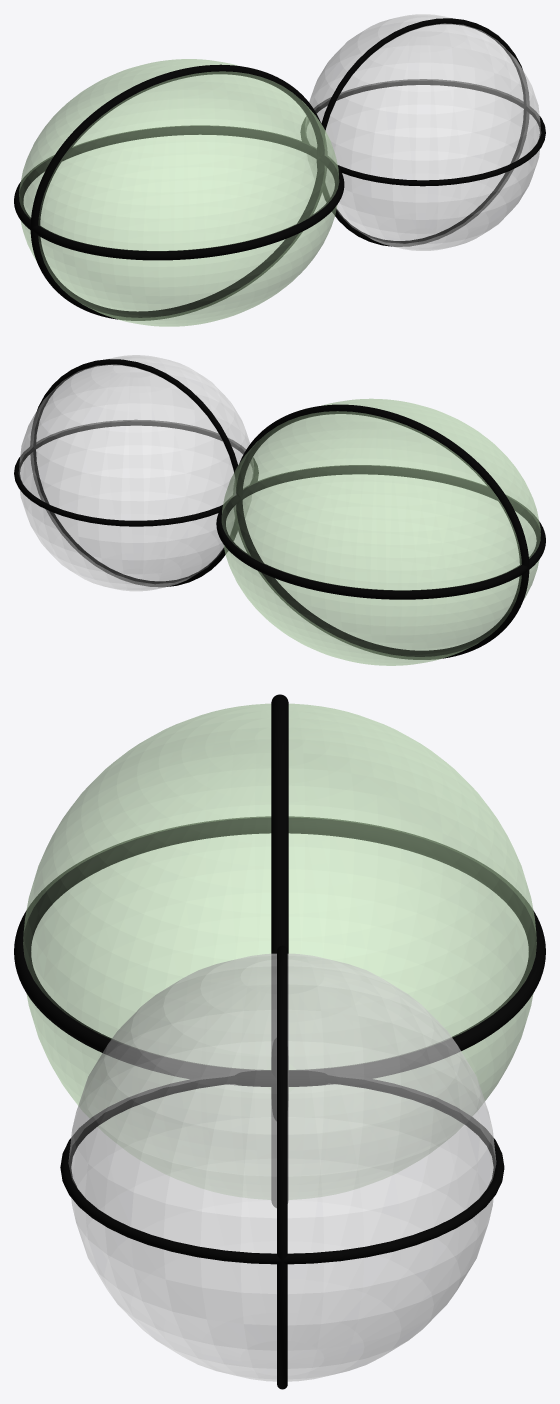
The model's file is sphere on ovaloid.fbx.
3 renders of one model, top to bottom at view 1: azimuth 30°, elevation 25°; view 2: azimuth 150°, elevation 25°; view 3: azimuth 270°, elevation 25°, orthographic. The views are drawn at different scales.
Parts seen in each view (by area): view 1: ReferenceEllipsoid, ReferenceSphere, meridian_curve_obj, equator_curve_obj, PrimeMeridianLine, EquatorLine; view 2: ReferenceEllipsoid, ReferenceSphere, meridian_curve_obj, equator_curve_obj, PrimeMeridianLine, EquatorLine; view 3: ReferenceEllipsoid, ReferenceSphere, equator_curve_obj, EquatorLine, meridian_curve_obj, PrimeMeridianLine.
Boxes of the visible parts, <box> form: ReferenceEllipsoid: <box>19,59,338,326</box>; ReferenceSphere: <box>305,14,540,250</box>; meridian_curve_obj: <box>30,64,326,320</box>; equator_curve_obj: <box>14,125,344,260</box>; PrimeMeridianLine: <box>316,18,529,246</box>; EquatorLine: <box>300,79,545,186</box>; ReferenceEllipsoid: <box>222,398,540,665</box>; ReferenceSphere: <box>19,355,253,591</box>; meridian_curve_obj: <box>233,404,529,659</box>; equator_curve_obj: <box>216,465,545,599</box>; PrimeMeridianLine: <box>30,359,242,586</box>; EquatorLine: <box>14,420,258,526</box>; ReferenceEllipsoid: <box>23,703,536,1199</box>; ReferenceSphere: <box>68,953,496,1381</box>; equator_curve_obj: <box>14,816,545,1086</box>; EquatorLine: <box>60,1074,504,1264</box>; meridian_curve_obj: <box>271,694,288,1207</box>; PrimeMeridianLine: <box>277,945,287,1389</box>.
Bounding box in the file's own units: 486 × 228 × 248.
